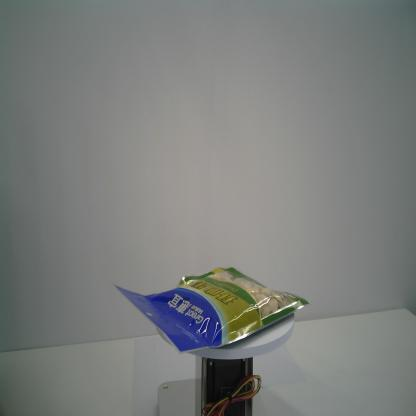Dried Fruit: (111, 264, 313, 353)
